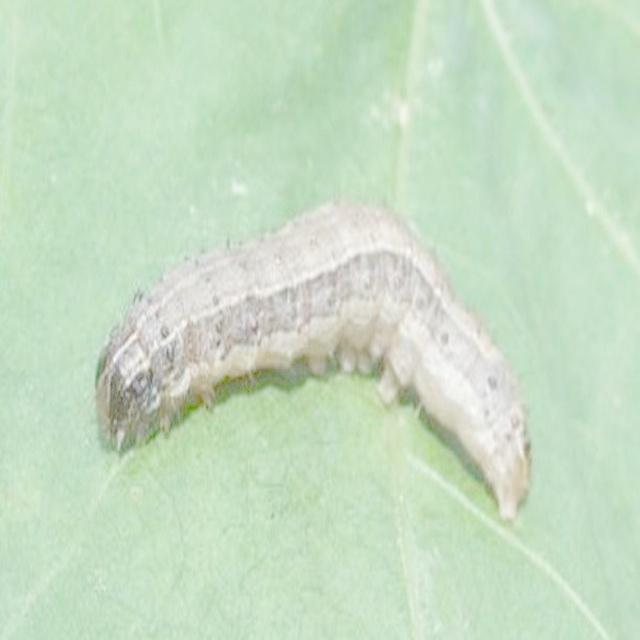gusano_cogollero: (91, 198, 528, 516)
